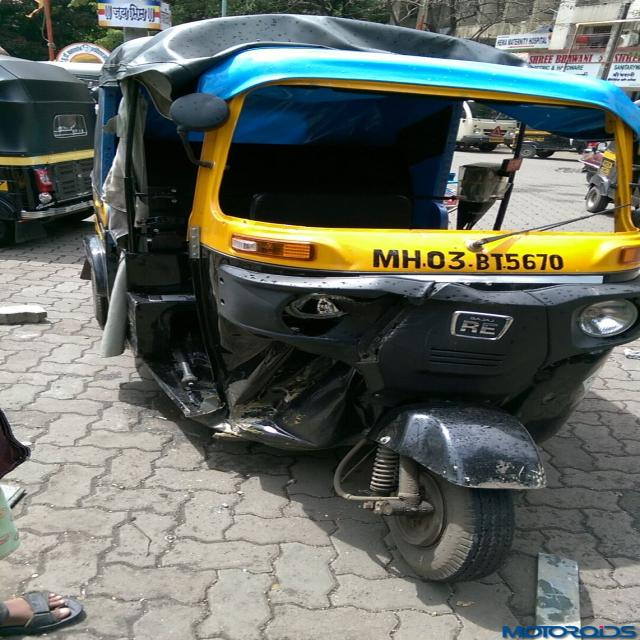accident: (84, 15, 640, 580)
autorickshaw: (0, 55, 95, 244)
truck: (457, 100, 516, 152)
